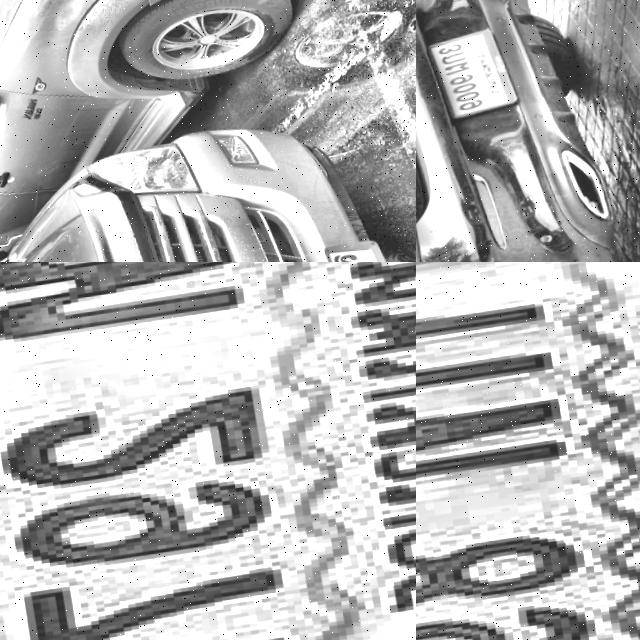license-plate: (0, 262, 416, 640), (416, 262, 640, 640), (416, 28, 518, 124)
